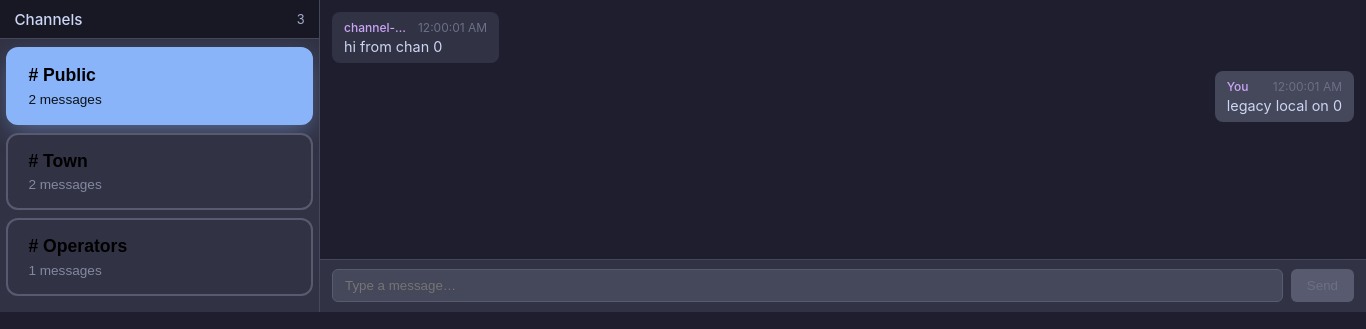
Scenario: MeshCoreChannelsView — per-channel message filter › shows received + locally-sent messages on the Town (channel 1) tab
Step 1. Click the text "# Town" → (58, 161), box [28,151,88,172]
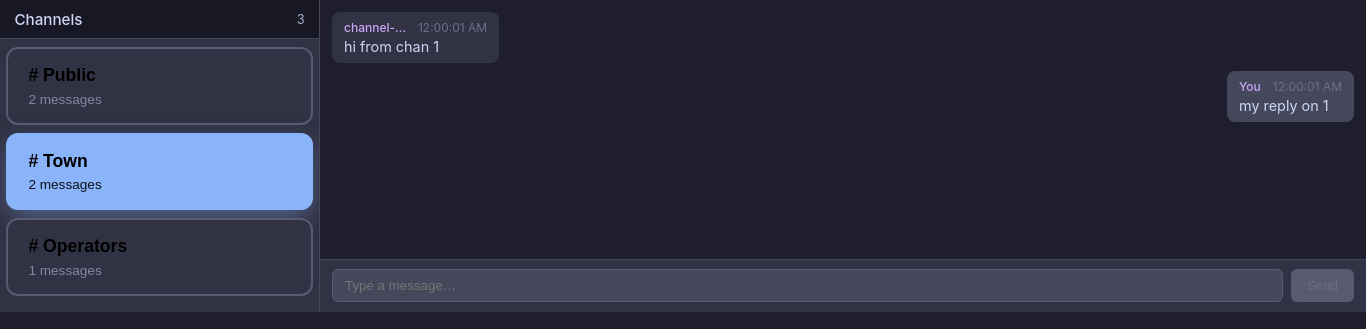
Expected: the text "hi from chan 1" is shown, [344,38,439,55]
Expected: the text "my reply on 1" is shown, [1239,97,1342,114]
Expected: the text "hi from chan 0" is gone
